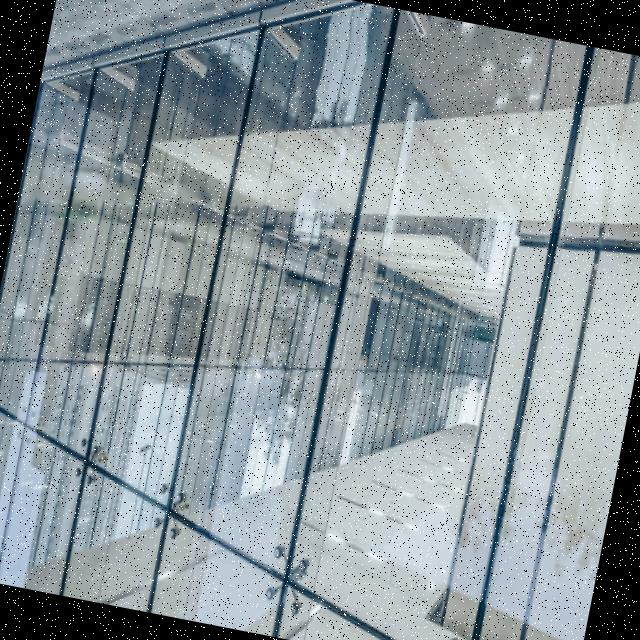Window: (276, 9, 591, 640), (159, 0, 397, 586), (78, 0, 267, 522)
